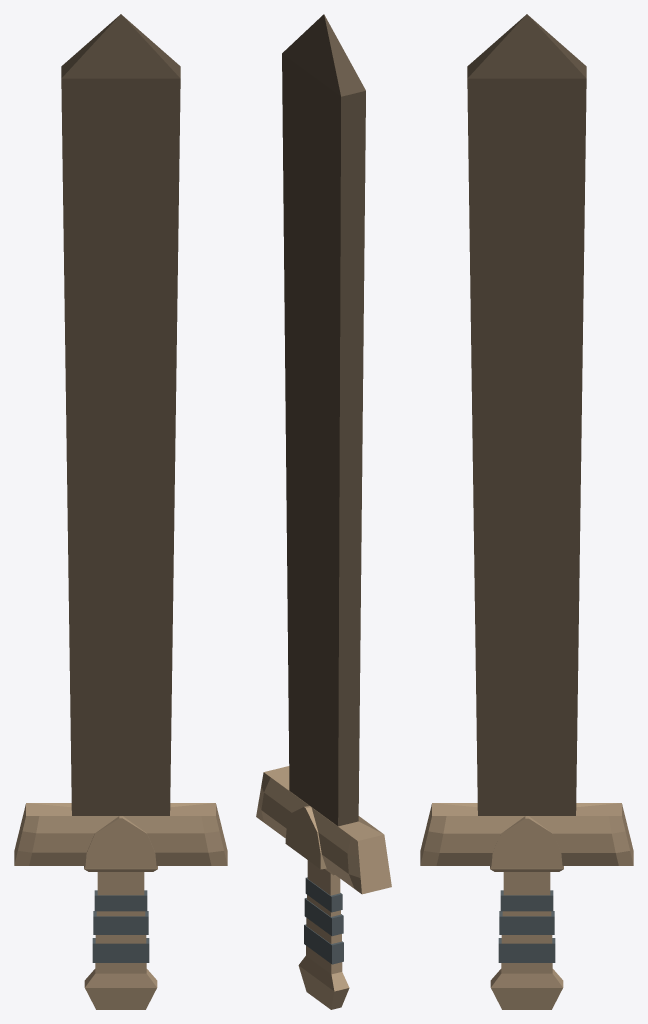
File: wooden_sword.glb
3 renders of one model, left to right at view 1: azimuth 90°, elevation 25°; view 2: azimuth 210°, elevation 25°; view 3: azimuth 270°, elevation 25°, orthographic.
Parts seen in each view (by area): view 1: wooden_sword; view 2: wooden_sword; view 3: wooden_sword.
Part boxes in pixels (x1=…): wooden_sword: x1=14, y1=14, x2=227, y2=1009; wooden_sword: x1=256, y1=14, x2=391, y2=1009; wooden_sword: x1=420, y1=14, x2=633, y2=1009.
Bounding box in the file's own units: 0.0445 × 1 × 0.1957.
